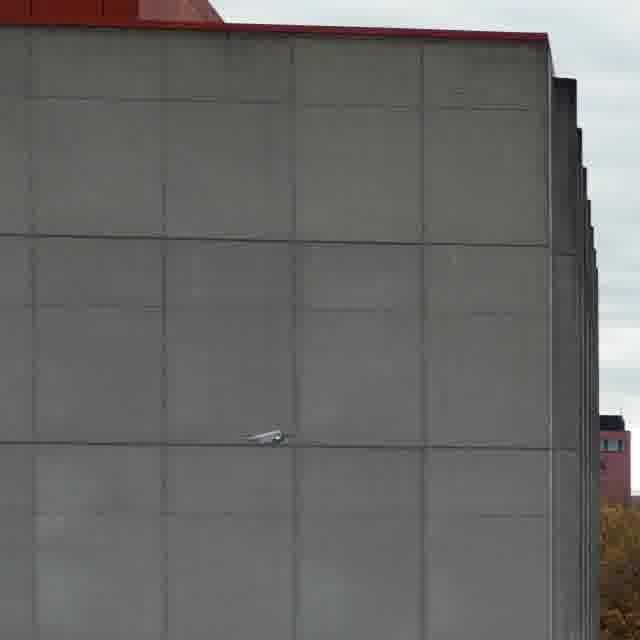Drohne: (247, 429, 288, 444)
